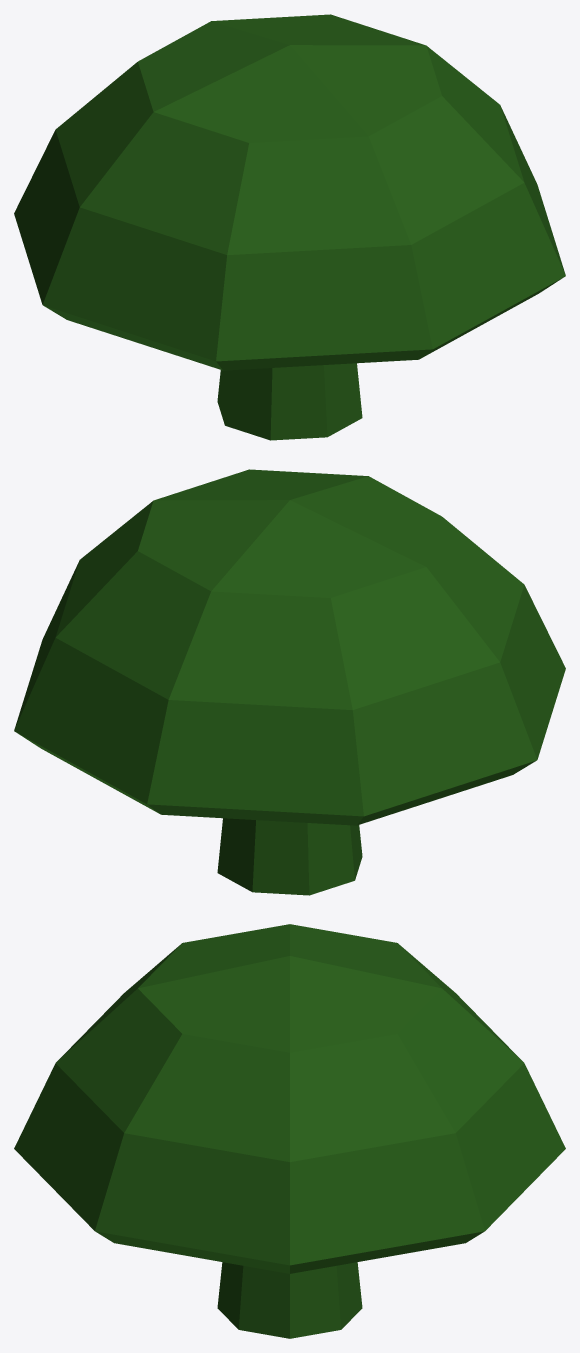
File: M_mushroom.fbx
3 renders of one model, top to bottom at view 1: azimuth 30°, elevation 25°; view 2: azimuth 150°, elevation 25°; view 3: azimuth 270°, elevation 25°, orthographic. The views are drawn at different scales.
Visible parts, largest first — view 1: M_Mushroom; view 2: M_Mushroom; view 3: M_Mushroom.
Boxes of the visible parts, left/top/right/bottom form: M_Mushroom: left=14, top=14, right=565, bottom=440; M_Mushroom: left=14, top=469, right=565, bottom=895; M_Mushroom: left=14, top=924, right=565, bottom=1338.
Bounding box in the file's own units: 14.24 × 10.03 × 14.24.
Materials: 1 (1 with a texture image).
